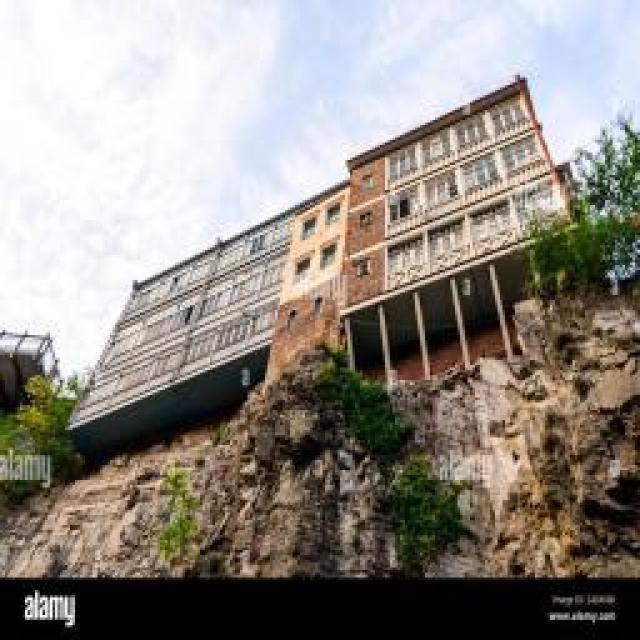Crack: (1, 287, 638, 578)
